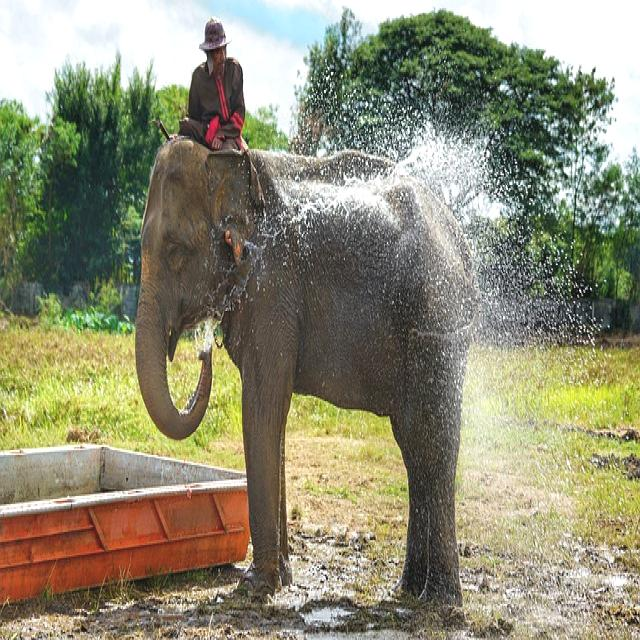FIL: (119, 132, 486, 616)
